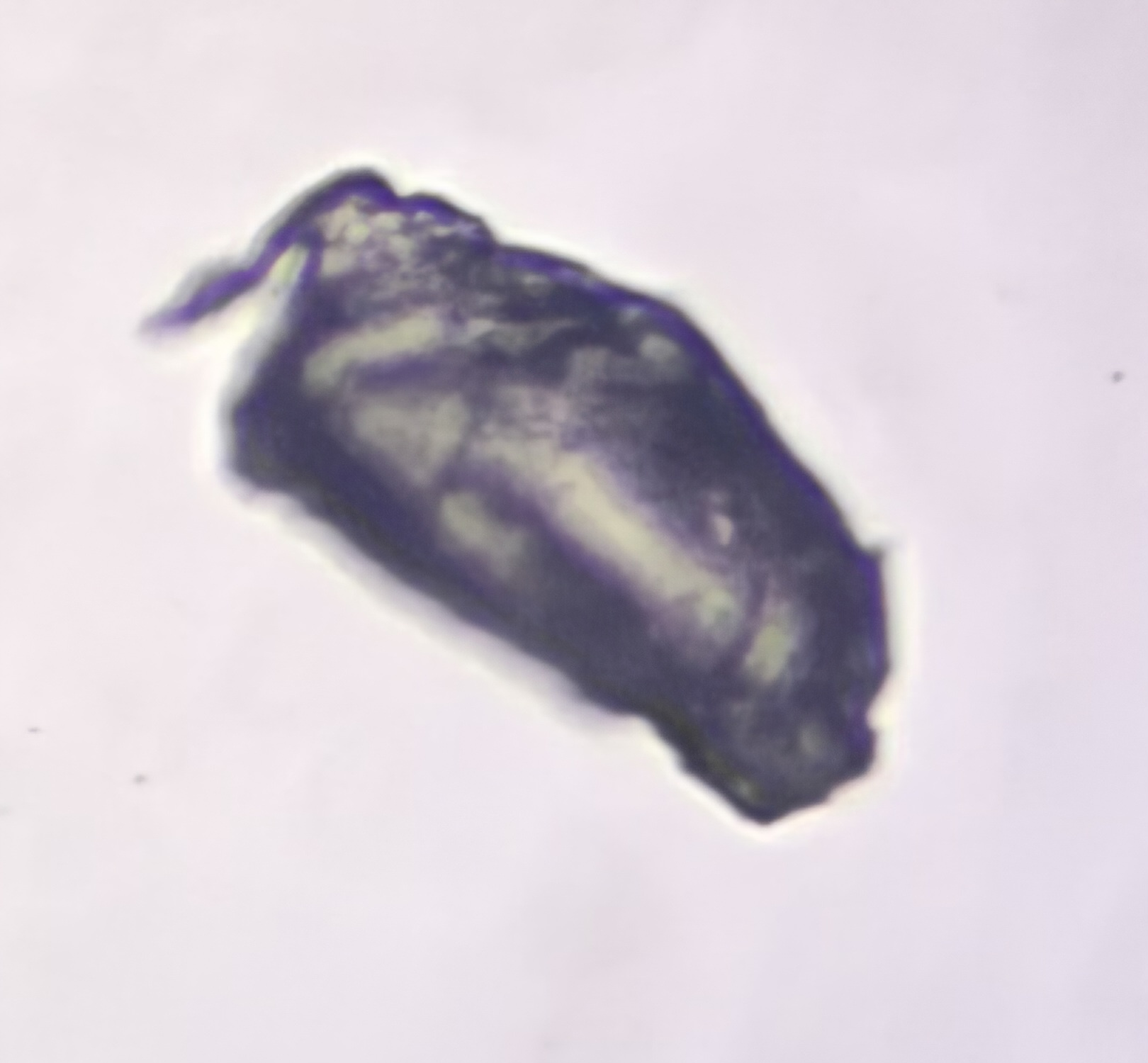microplastic: (145, 167, 895, 829)
